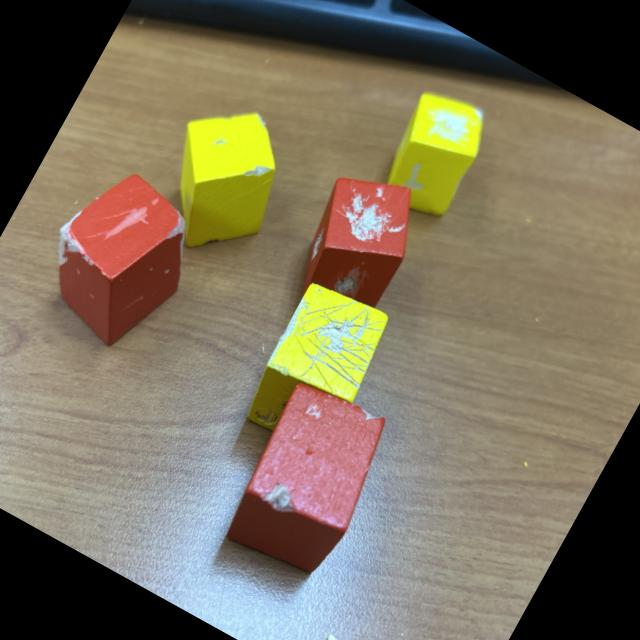broken: (20, 154, 218, 366), (213, 372, 404, 588), (134, 84, 310, 276), (236, 273, 400, 462), (278, 154, 436, 332), (369, 80, 499, 226)
